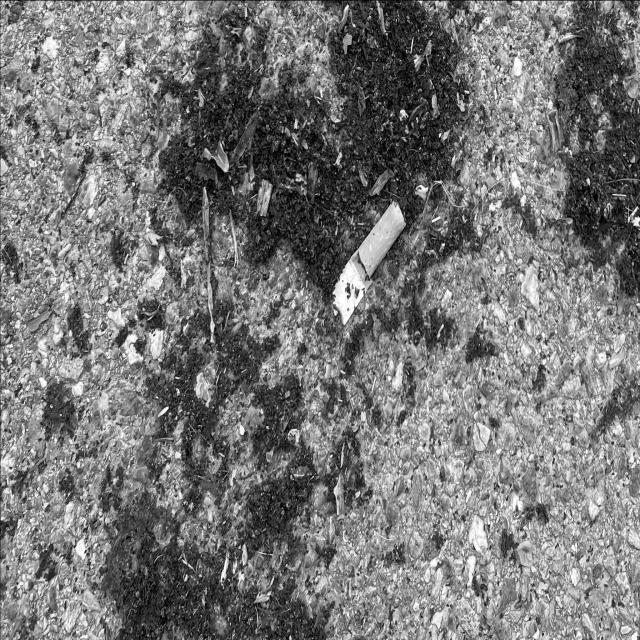other waste: (316, 198, 406, 338)
